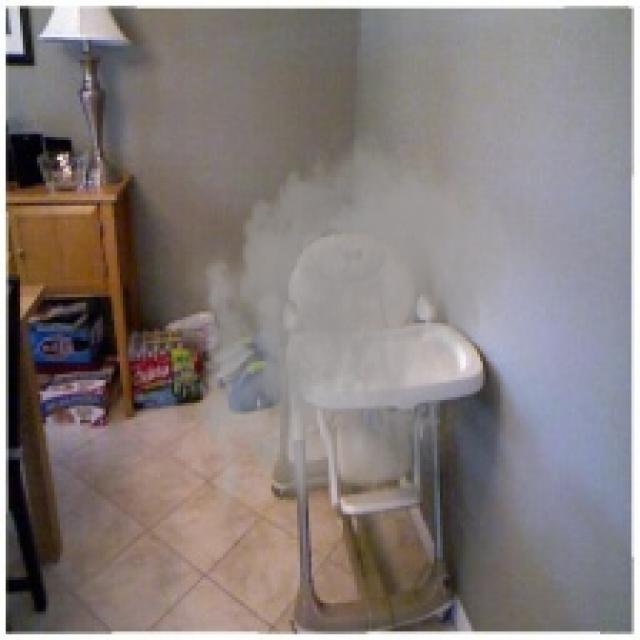smoke: (180, 120, 523, 540)
